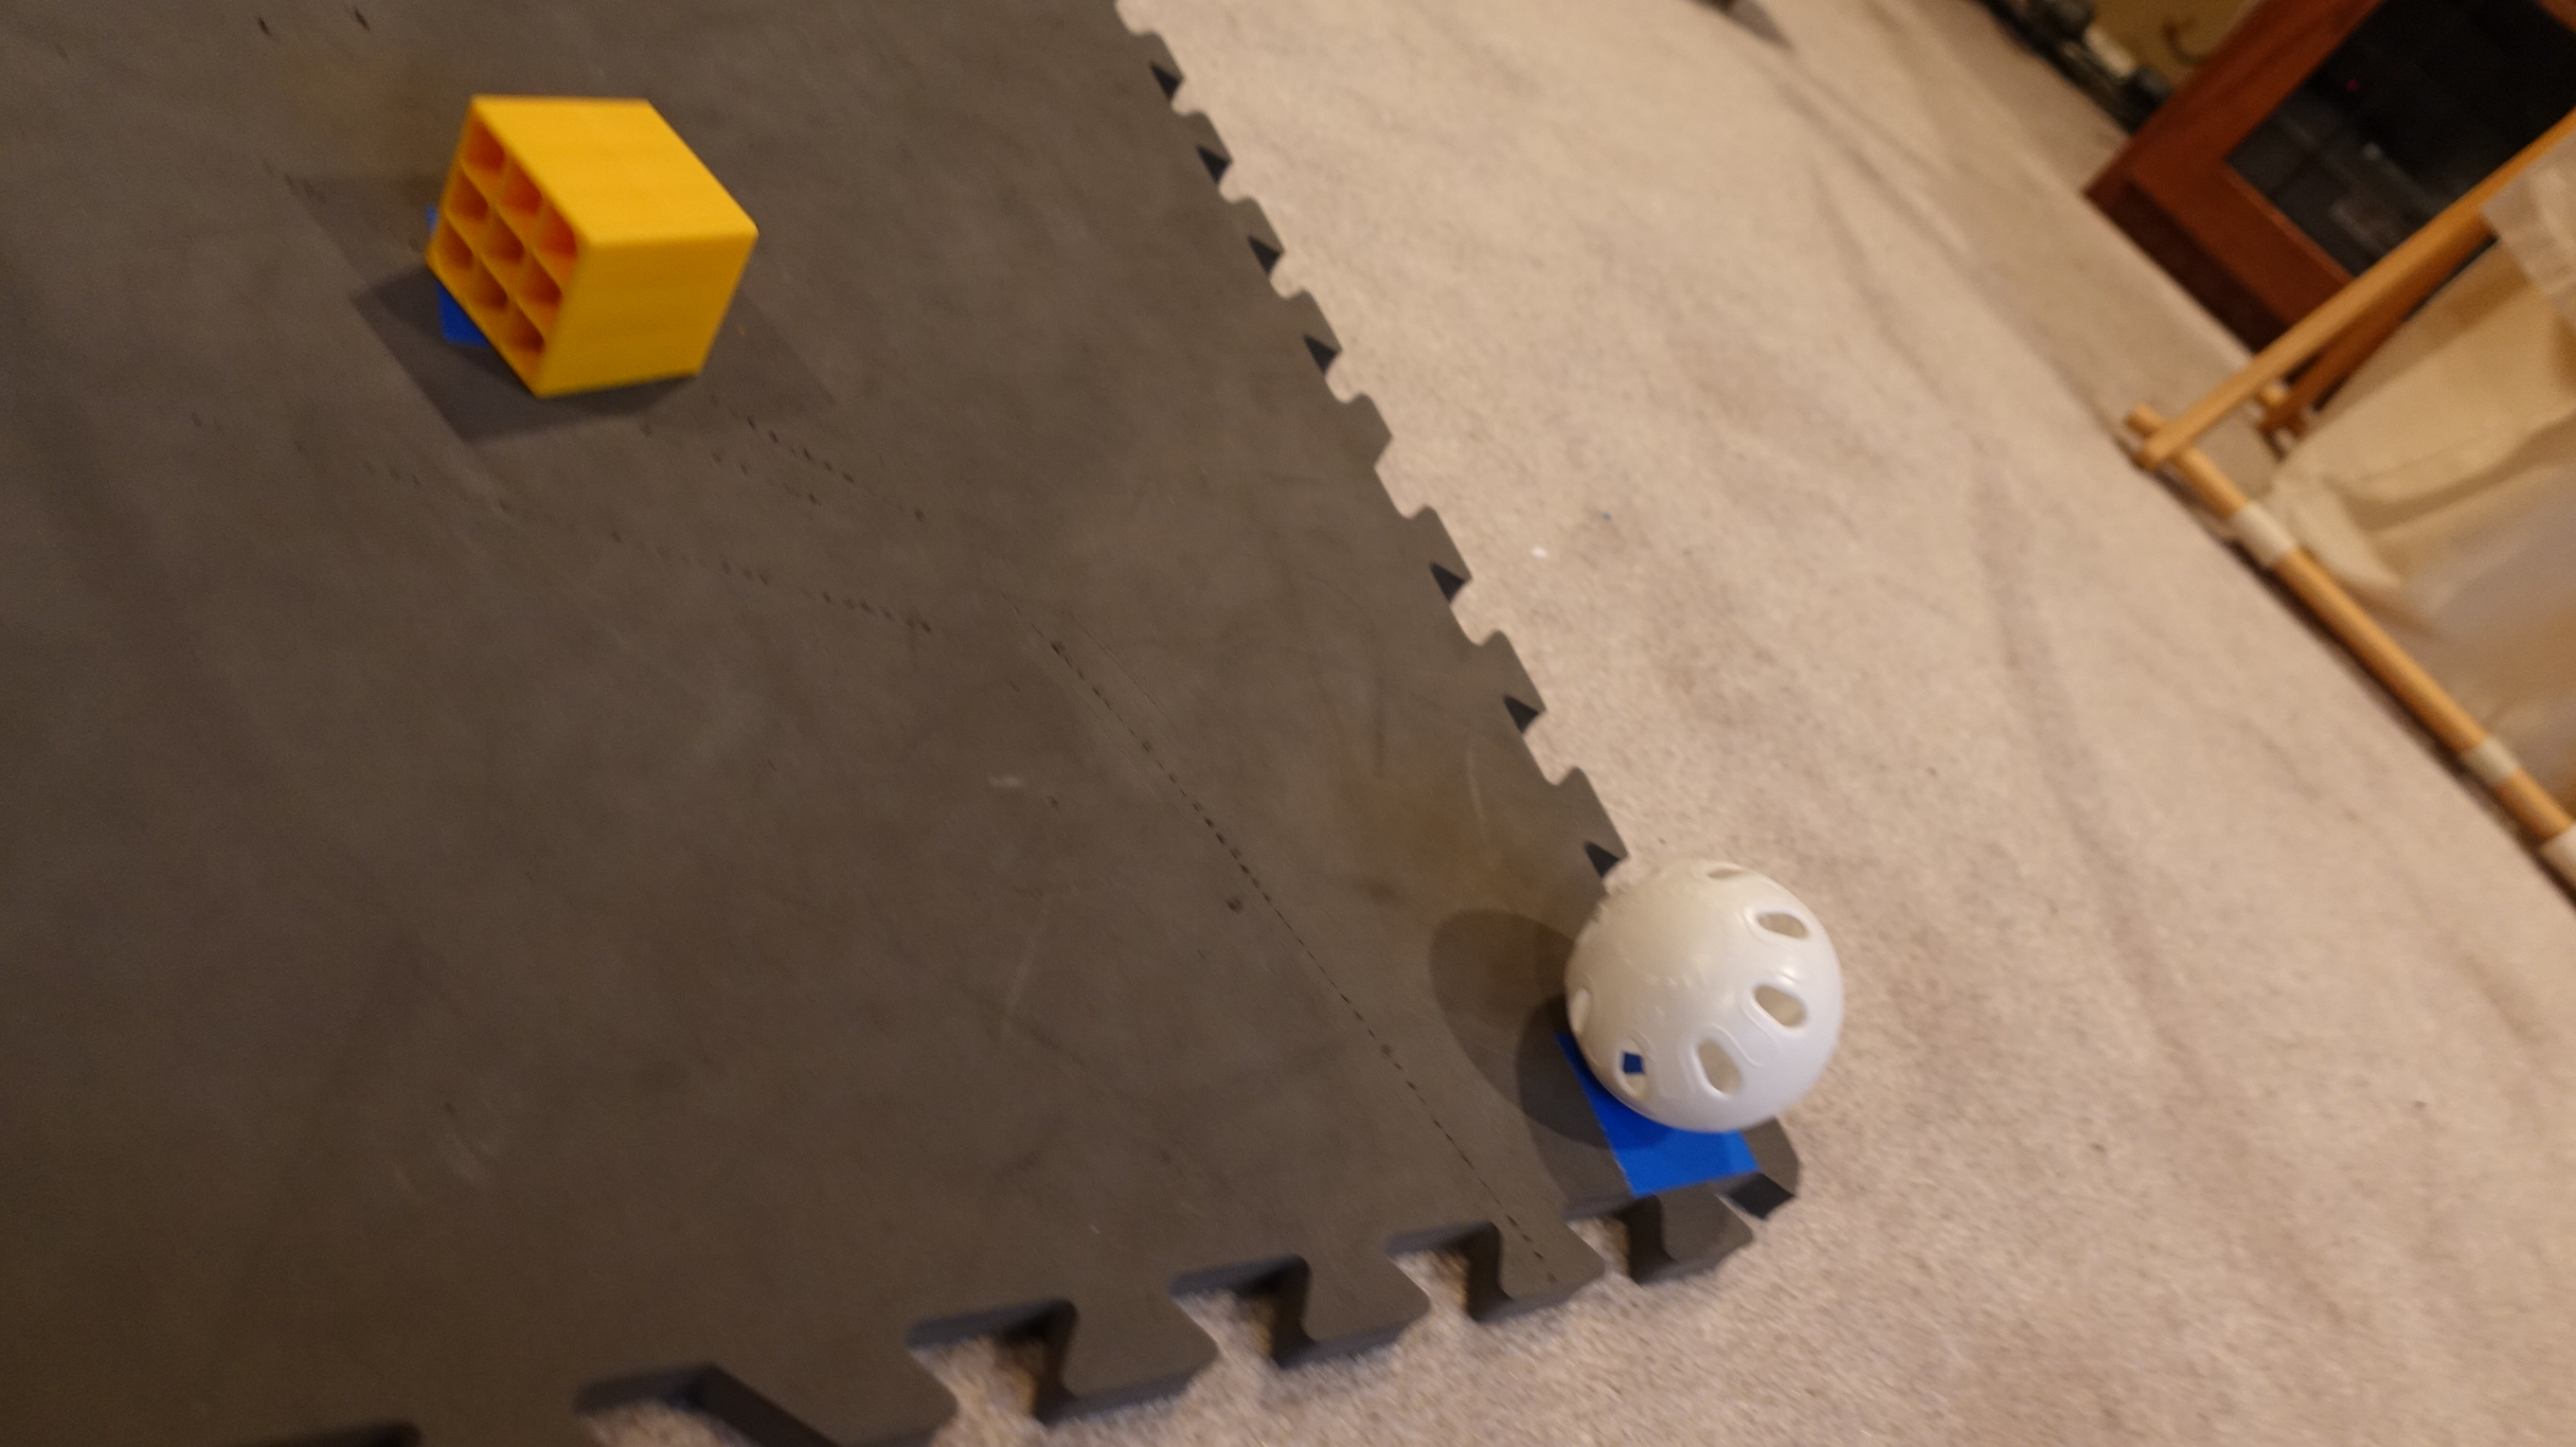gold: (414, 85, 763, 409)
silver: (1553, 819, 1854, 1145)
